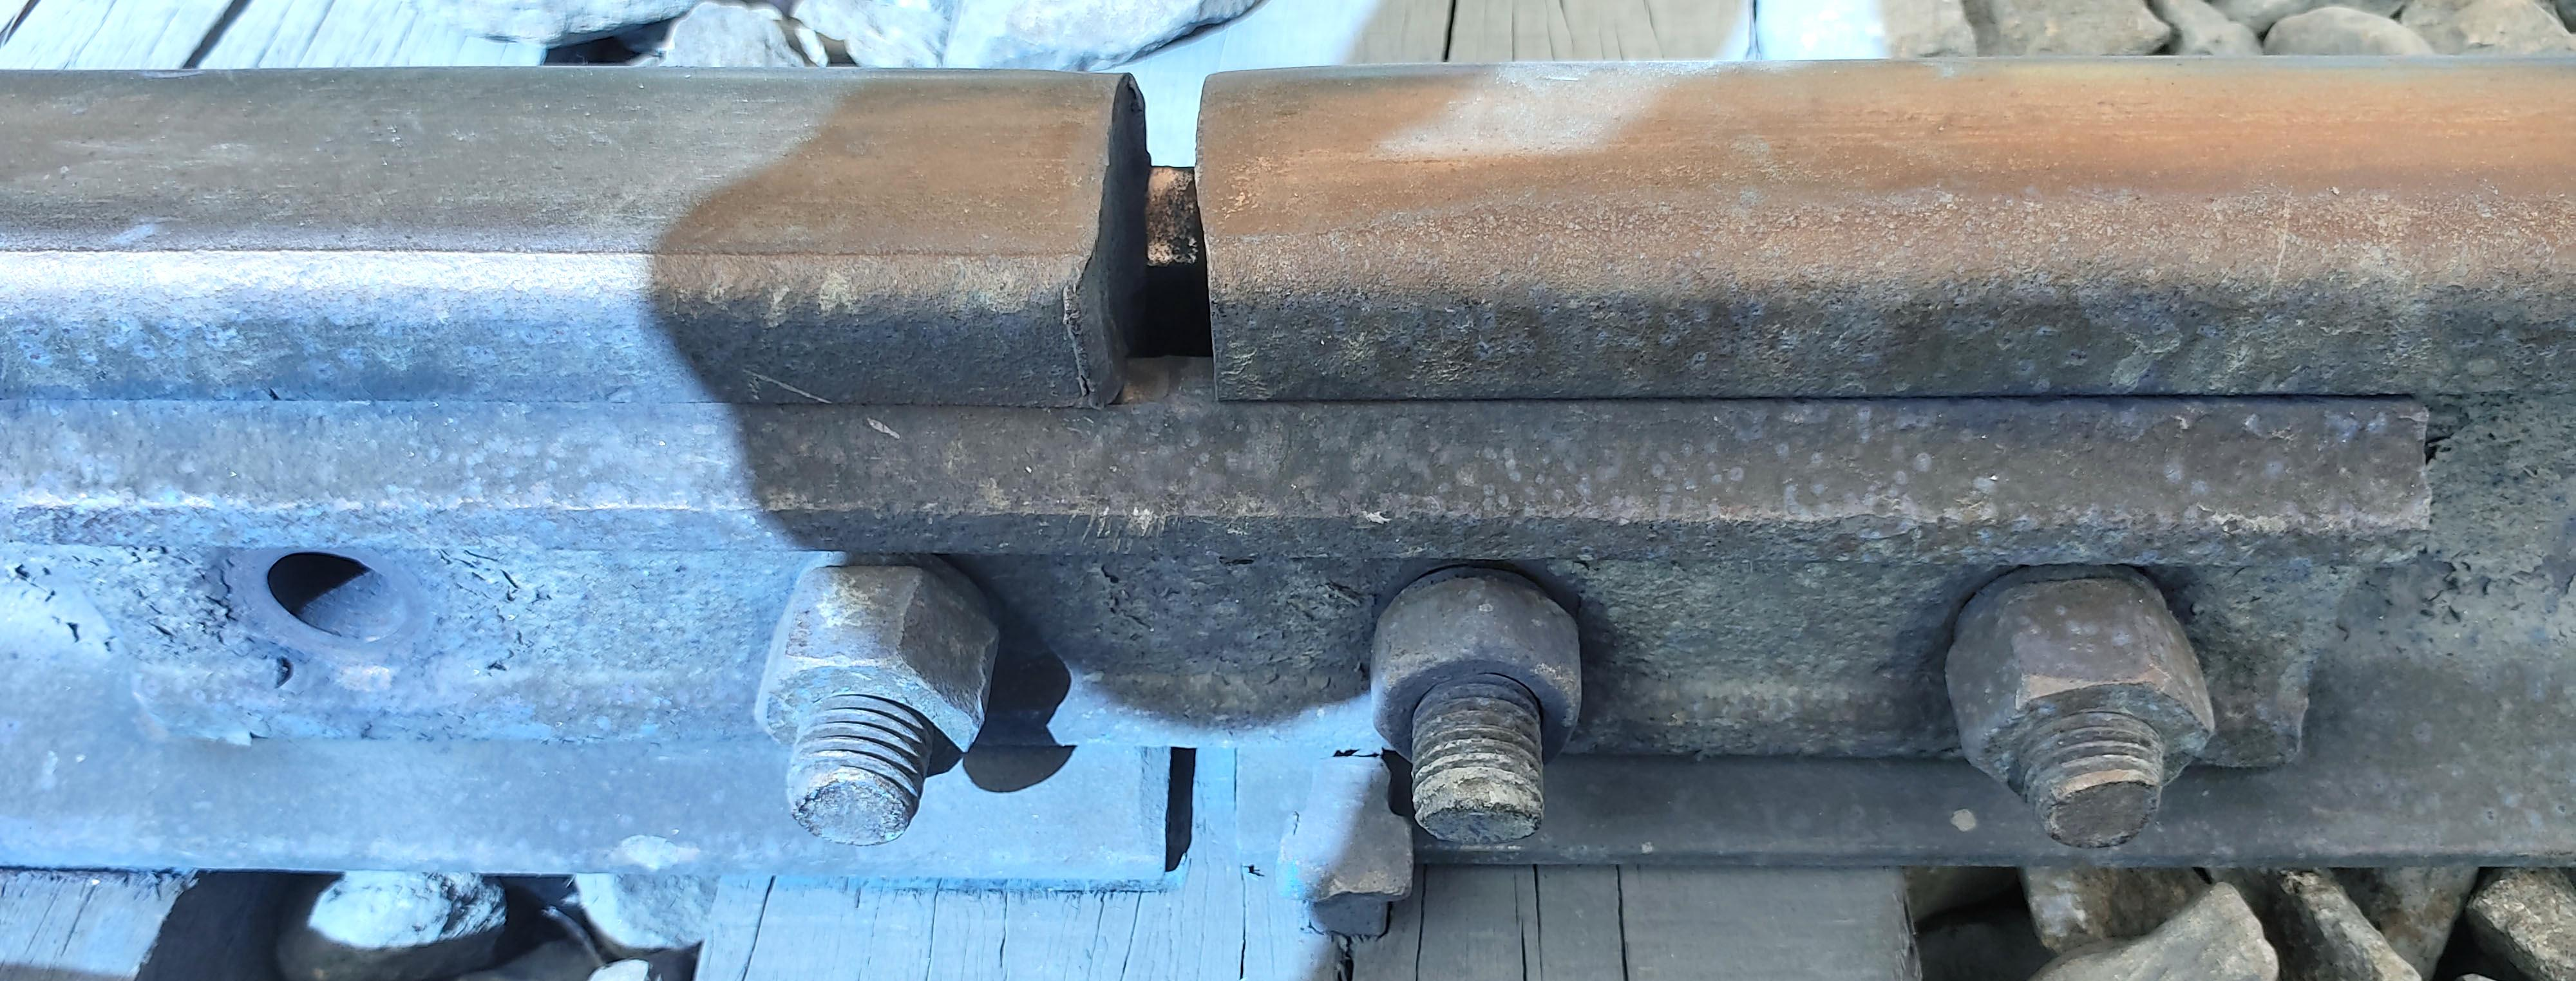error2: (1035, 0, 1362, 442)
